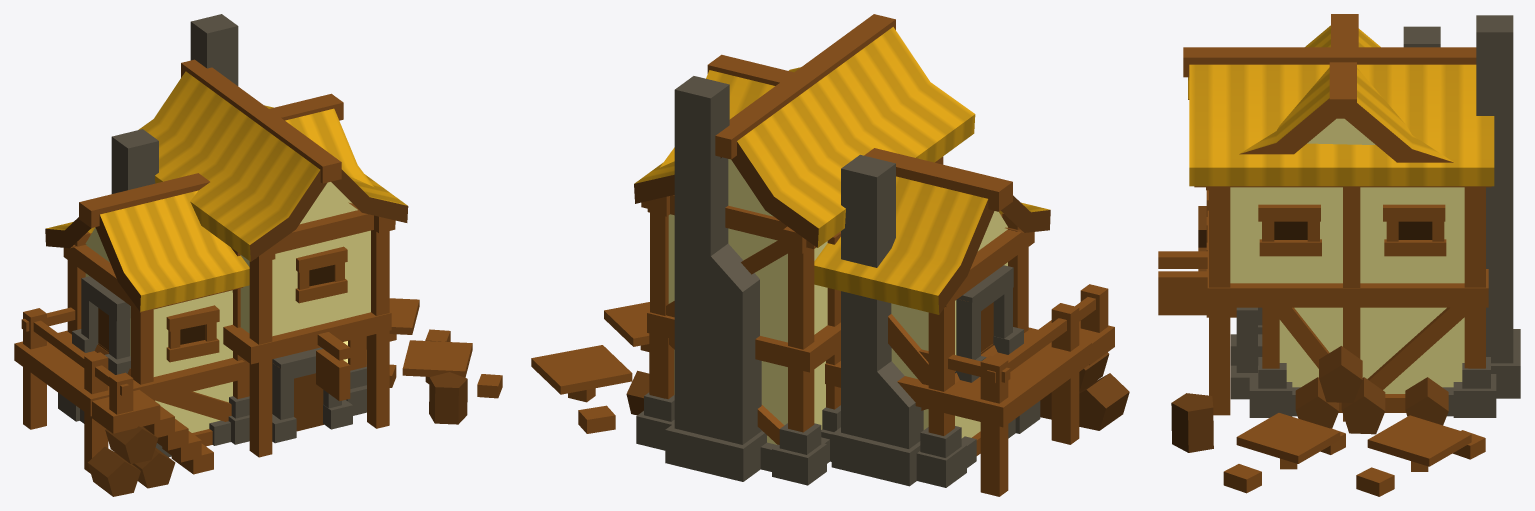
File: Tavern.fbx
The picture shows the model from 3 angles, left to right: view 1: azimuth 30°, elevation 25°; view 2: azimuth 150°, elevation 25°; view 3: azimuth 270°, elevation 25°; orthographic projection. The views are drawn at different scales.
Parts seen in each view (by area): view 1: polySurface383; view 2: polySurface383; view 3: polySurface383.
Boxes of the visible parts, x1,y1,x2,y2 form: polySurface383: [14, 14, 502, 496]; polySurface383: [531, 14, 1129, 496]; polySurface383: [1158, 14, 1520, 496].
Bounding box in the file's own units: 228 × 169 × 149.
1 material, 1 textured.
